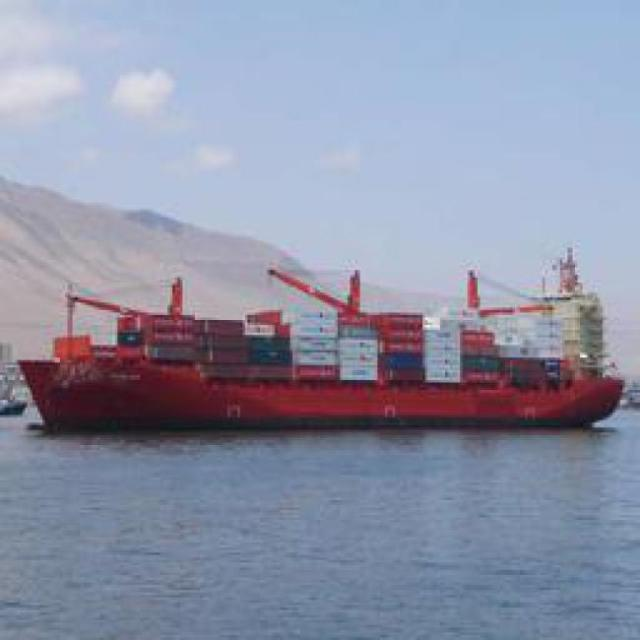boat: (24, 290, 625, 430)
